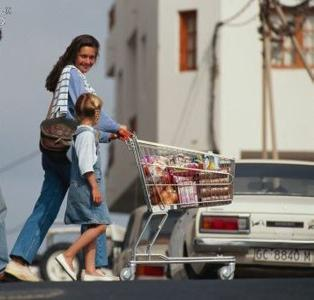person: (4, 33, 137, 280)
